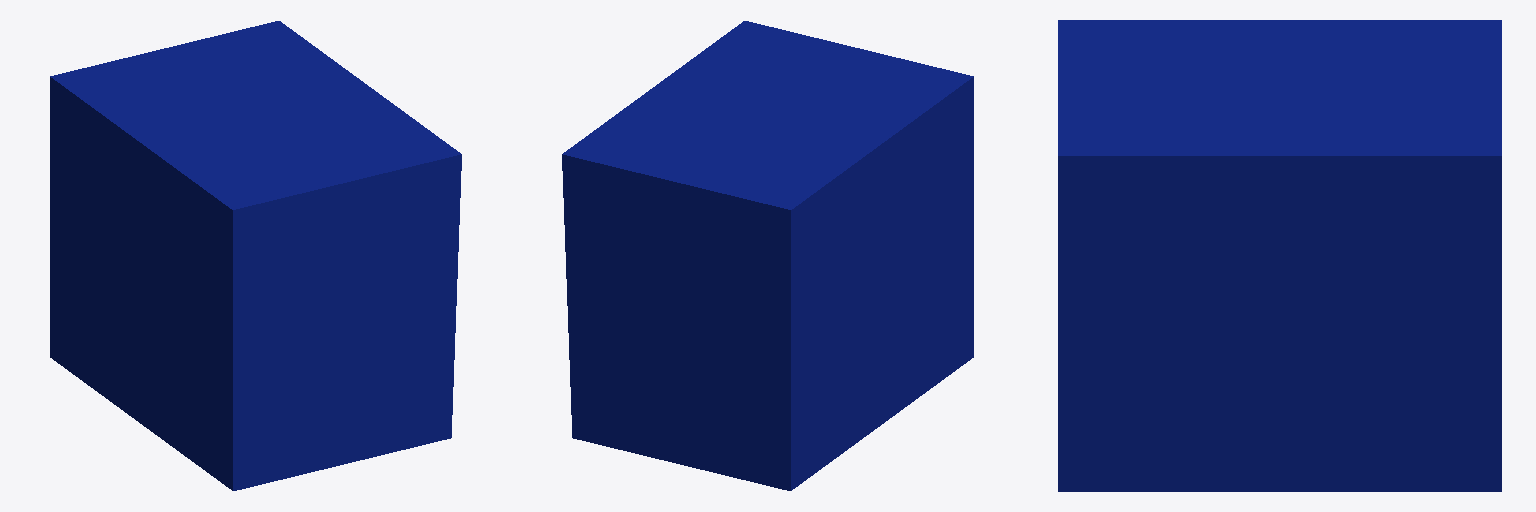
URDF robot description (block):
<robot name="block">
  <link name="block_base_link">
    <contact>
      <lateral_friction value="0.2"/>
      <rolling_friction value="0.001"/>
      <contact_cfm value="0.0"/>
      <contact_erp value="1.0"/>
    </contact>
    <inertial>
      <origin rpy="0 0 0" xyz="0 0 0"/>
      <mass value="0.05"/>
      <inertia ixx="0" ixy="0" ixz="0" iyy="0" iyz="0" izz="0"/>
    </inertial>
    <visual>
      <origin rpy="0 0 0" xyz="0 0 0"/>
      <geometry>
        <mesh filename="4.obj" scale="1 1 1"/>
      </geometry>
      <material name="tray_material">
        <color rgba="0.1 0.2 0.6 1"/>
      </material>
    </visual>
    <collision>
      <origin rpy="0 0 0" xyz="0 0 0"/>
      <geometry>
        <mesh filename="4.obj" scale="1 1 1"/>
      </geometry>
    </collision>
  </link>
</robot>

--- What the picture shows (computed from the rendered views, not written in the file) ---
3 views of the same robot in one strip: view 1: azimuth 30°, elevation 25°; view 2: azimuth 150°, elevation 25°; view 3: azimuth 270°, elevation 25° (orthographic).
Robot: block — 1 links, 0 joints (none); root link block_base_link; default pose: every joint at zero.
Visible links, largest first — view 1: block_base_link; view 2: block_base_link; view 3: block_base_link.
Boxes of the visible links, left/top/right/bottom form: block_base_link: left=50, top=21, right=461, bottom=490; block_base_link: left=562, top=21, right=973, bottom=490; block_base_link: left=1058, top=20, right=1501, bottom=491.
Bounding box of the posed robot: 0.0341 × 0.0471 × 0.04 m (x, y, z).
1 mesh visuals loaded from 1 distinct referenced files (1 OBJ).